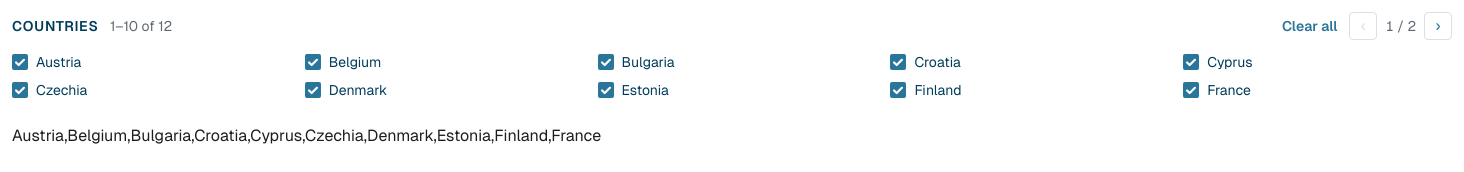
it: pages forward to the remainder and back again
Click the button named "Next page": (1438, 26) [1424, 12, 1452, 40]
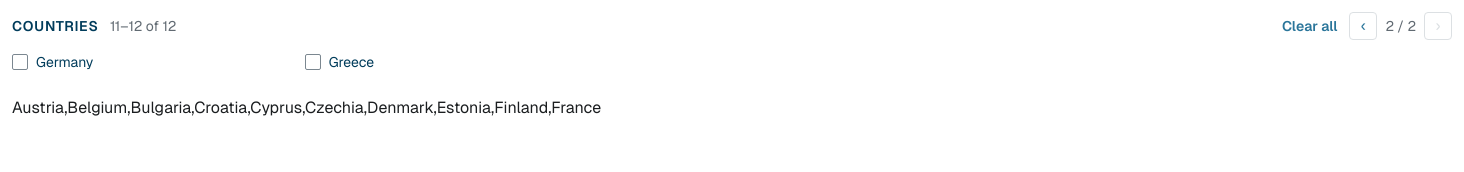
Expected: the text "11–12 of 12" is shown, [110, 17, 176, 35]
Expected: the text "Germany" is shown, [12, 53, 93, 71]
Click the button named "Previous page": (1364, 26) [1350, 12, 1378, 40]
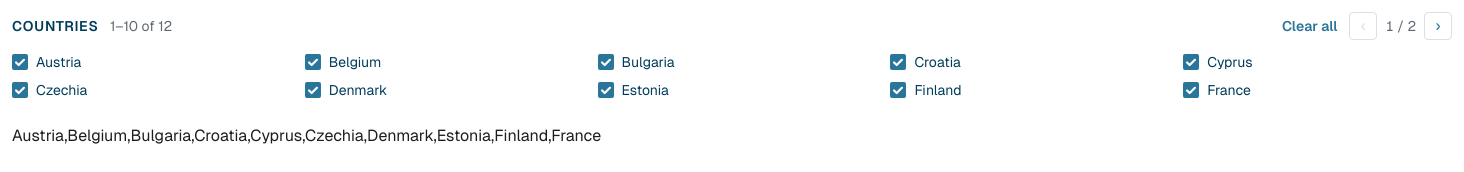
Expected: the text "1–10 of 12" is shown, [110, 17, 172, 35]
